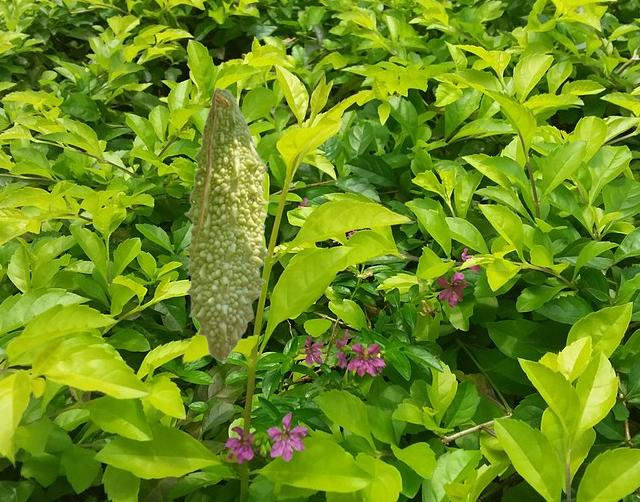ampalaya: (180, 86, 271, 364)
